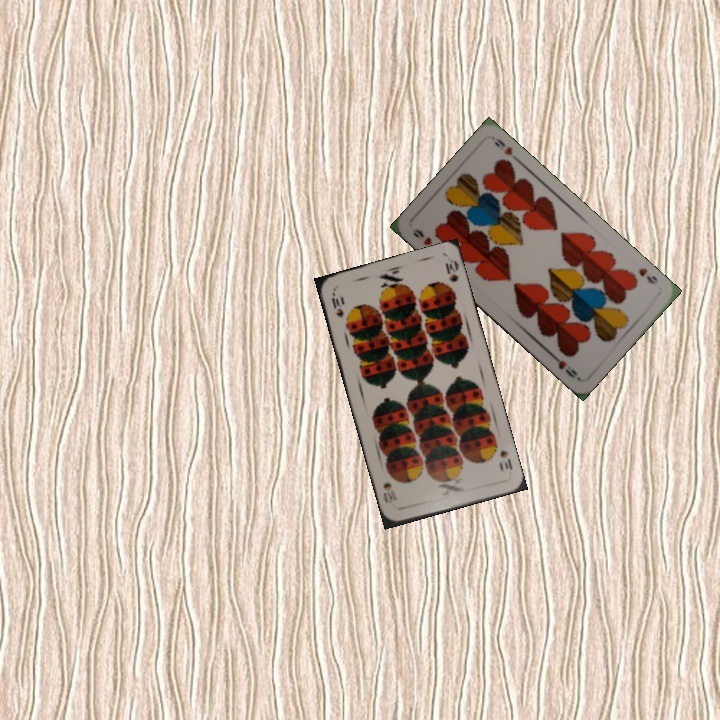H9: (635, 264, 661, 287), (409, 225, 434, 248)
S10: (495, 445, 515, 475), (327, 289, 346, 320)
